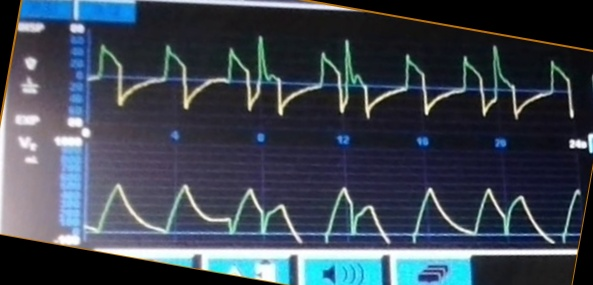Double_Triggering Flow: (98, 35, 548, 122)
Double_Triggering Volume: (115, 173, 554, 245)
